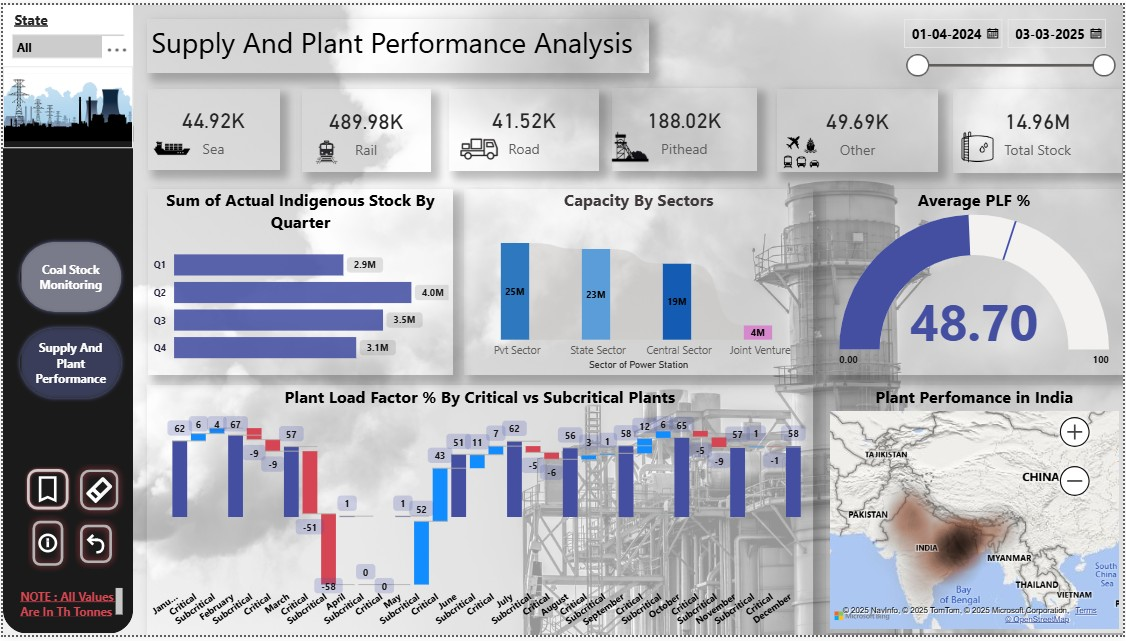

What the dashboard file says about the page in this screenshot:
{"tool":"powerbi","page":{"name":"Supply And Plant Performance","canvas":[1280,720],"ordinal":2},"visuals":[{"type":"textbox","box":[165,16.2,747.5,62.5],"z":0},{"type":"shape","box":[0,79.9,148.6,638],"z":1000},{"type":"slicer","fields":{"Values":["Coal.State Name"]},"box":[0,0,148.8,78.8],"z":2000},{"type":"card","fields":{"Values":["Coal Measures.Sea"]},"box":[168.8,101.2,150,92.5],"z":4000},{"type":"card","fields":{"Values":["Coal Measures.Rail"]},"box":[357.5,100,150,92.5],"z":5000},{"type":"card","fields":{"Values":["Coal Measures.Road"]},"box":[526.2,101.2,150,92.5],"z":6000},{"type":"card","fields":{"Values":["Coal Measures.Pithead"]},"box":[717.5,100,157.5,92.5],"z":7000},{"type":"card","fields":{"Values":["Coal Measures.Other"]},"box":[912.5,100,150,92.5],"z":8000},{"type":"image","box":[357.5,147.5,56.2,53.8],"z":9000},{"type":"image","box":[168.8,150,52.5,42.5],"z":10000},{"type":"image","box":[0,70,148.8,93.8],"z":11000},{"type":"image","box":[526.2,137.5,57.5,61.2],"z":12000},{"type":"image","box":[728.8,142.5,42.5,51.2],"z":13000},{"type":"image","box":[911.2,142.5,56.2,52.5],"z":14000},{"type":"clusteredBarChart","title":"Actual Indigenous Stock By Quarter","fields":{"Category":["Calender.Qtr"],"Y":["Sum(Coal.Actual Indigenous Stock In Th Tonnes)"]},"box":[168.8,210,377.5,212.5],"z":15000},{"type":"card","fields":{"Values":["Coal Measures.Total Stock"]},"box":[1103.8,100,162.5,92.5],"z":16000},{"type":"slicer","fields":{"Values":["Calender.Date"]},"box":[1017.6,5.6,262.4,83.3],"z":17000},{"type":"pageNavigator","box":[13.8,266.2,126.2,188.8],"z":18000},{"type":"actionButton","box":[23.8,527.5,53.8,52.5],"z":19000},{"type":"actionButton","box":[26.2,581.2,51.2,67.5],"z":20000},{"type":"actionButton","box":[80,522.5,60,62.5],"z":21000},{"type":"actionButton","box":[80,585,52.5,60],"z":22000},{"type":"textbox","box":[13.8,661.2,127.5,42.5],"z":23000},{"type":"gauge","title":"Average PLF %","fields":{"Y":["Coal Measures.Average PLF %"],"TargetValue":["Coal Measures.Target"],"MaxValue":["Coal Measures.Maximum"]},"box":[925,210,341.2,212.5],"z":25000},{"type":"image","box":[1092.5,140,56.2,52.5],"z":26000},{"type":"waterfallChart","title":"Plant Load Factor % By Critical vs Subcritical Plants","fields":{"Category":["Calender.Month"],"Y":["Avg(Coal.Plant Load Factor In Percentage)"],"Breakdown":["Coal.Thermo Dynamic Condition"]},"box":[165,433.8,747.5,285],"z":27000},{"type":"map","title":"Plant Perfomance in India","fields":{"Category":["Coal.State Name"],"Size":["Coal Measures.Average PLF %"]},"box":[925,433.8,341.2,286.2],"z":28000},{"type":"donutChart","title":"Critical And Subcritical plants","fields":{"Y":["Coal Measures.Critical Plants","Coal Measures.Subcritical Plants"]},"box":[555,210,356.2,212.5],"z":30000}]}

Visuals, with their boxes on the page's 1280x720 design canvas (x1, y1, x2, y2). These are canvas units, not pixel positions in the 1126x641 screenshot, which may show the page scaled, cropped or inside an application window:
textbox: (left=165, top=16, right=912, bottom=79)
shape: (left=0, top=80, right=149, bottom=718)
slicer - Coal.State Name: (left=0, top=0, right=149, bottom=79)
card - Coal Measures.Sea: (left=169, top=101, right=319, bottom=194)
card - Coal Measures.Rail: (left=358, top=100, right=508, bottom=192)
card - Coal Measures.Road: (left=526, top=101, right=676, bottom=194)
card - Coal Measures.Pithead: (left=718, top=100, right=875, bottom=192)
card - Coal Measures.Other: (left=912, top=100, right=1062, bottom=192)
image: (left=358, top=148, right=414, bottom=201)
image: (left=169, top=150, right=221, bottom=192)
image: (left=0, top=70, right=149, bottom=164)
image: (left=526, top=138, right=584, bottom=199)
image: (left=729, top=142, right=771, bottom=194)
image: (left=911, top=142, right=967, bottom=195)
"Actual Indigenous Stock By Quarter" clusteredBarChart: (left=169, top=210, right=546, bottom=422)
card - Coal Measures.Total Stock: (left=1104, top=100, right=1266, bottom=192)
slicer - Calender.Date: (left=1018, top=6, right=1280, bottom=89)
pageNavigator: (left=14, top=266, right=140, bottom=455)
actionButton: (left=24, top=528, right=78, bottom=580)
actionButton: (left=26, top=581, right=77, bottom=649)
actionButton: (left=80, top=522, right=140, bottom=585)
actionButton: (left=80, top=585, right=132, bottom=645)
textbox: (left=14, top=661, right=141, bottom=704)
"Average PLF %" gauge: (left=925, top=210, right=1266, bottom=422)
image: (left=1092, top=140, right=1149, bottom=192)
"Plant Load Factor % By Critical vs Subcritical Plants" waterfallChart: (left=165, top=434, right=912, bottom=719)
"Plant Perfomance in India" map: (left=925, top=434, right=1266, bottom=720)
"Critical And Subcritical plants" donutChart: (left=555, top=210, right=911, bottom=422)
